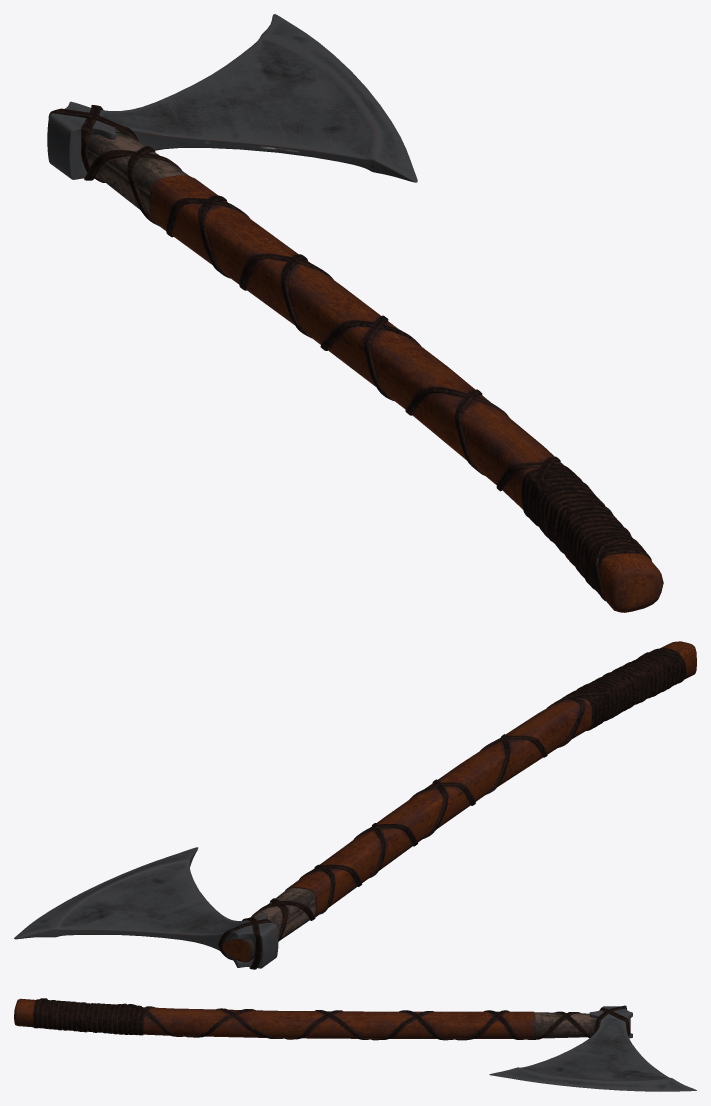
The model's file is viking_axe__hache_vinking.glb.
3 renders of one model, top to bottom at view 1: azimuth 30°, elevation 25°; view 2: azimuth 150°, elevation 25°; view 3: azimuth 270°, elevation 25°, orthographic. The views are drawn at different scales.
Visible parts, largest first — view 1: bois, fer, lacet, fer.003; view 2: bois, fer, lacet, fer.003; view 3: bois, fer, lacet, fer.003.
Boxes of the visible parts, bbox=[...] form: bois: bbox=[150, 175, 663, 612]; fer: bbox=[47, 14, 417, 182]; lacet: bbox=[48, 105, 651, 601]; fer.003: bbox=[82, 131, 188, 217]; bois: bbox=[222, 641, 696, 962]; fer: bbox=[14, 847, 278, 968]; lacet: bbox=[218, 648, 686, 969]; fer.003: bbox=[222, 887, 316, 962]; bois: bbox=[14, 998, 630, 1038]; fer: bbox=[489, 1006, 696, 1091]; lacet: bbox=[33, 998, 629, 1040]; fer.003: bbox=[534, 1012, 630, 1038].
Bounding box in the file's own units: 0.2596 × 0.0425 × 0.8917.
Materials: 1 (1 with a texture image).
